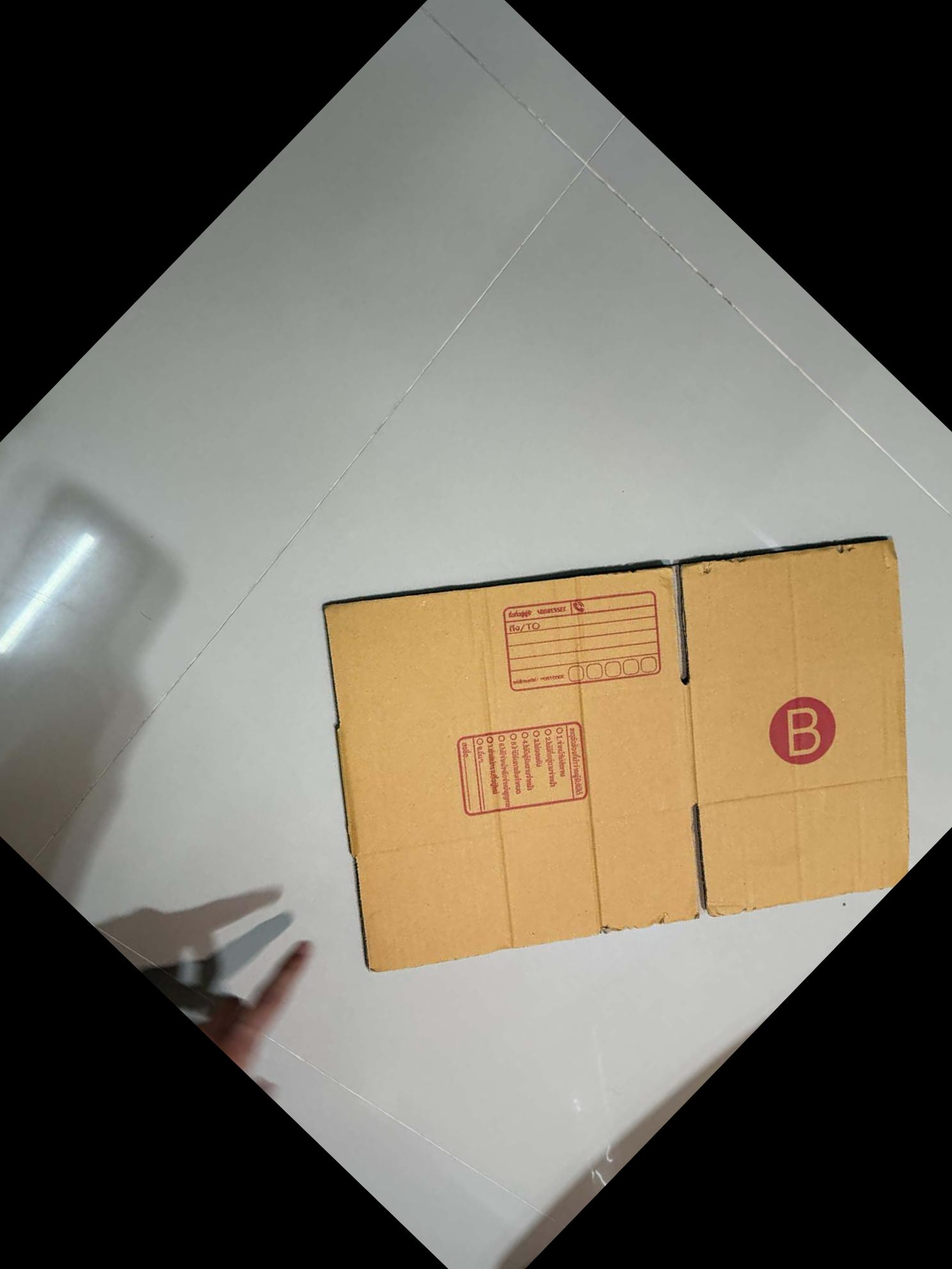box: (453, 516, 701, 763), (411, 659, 635, 882), (743, 670, 866, 792)
class0: (138, 275, 952, 1210)
